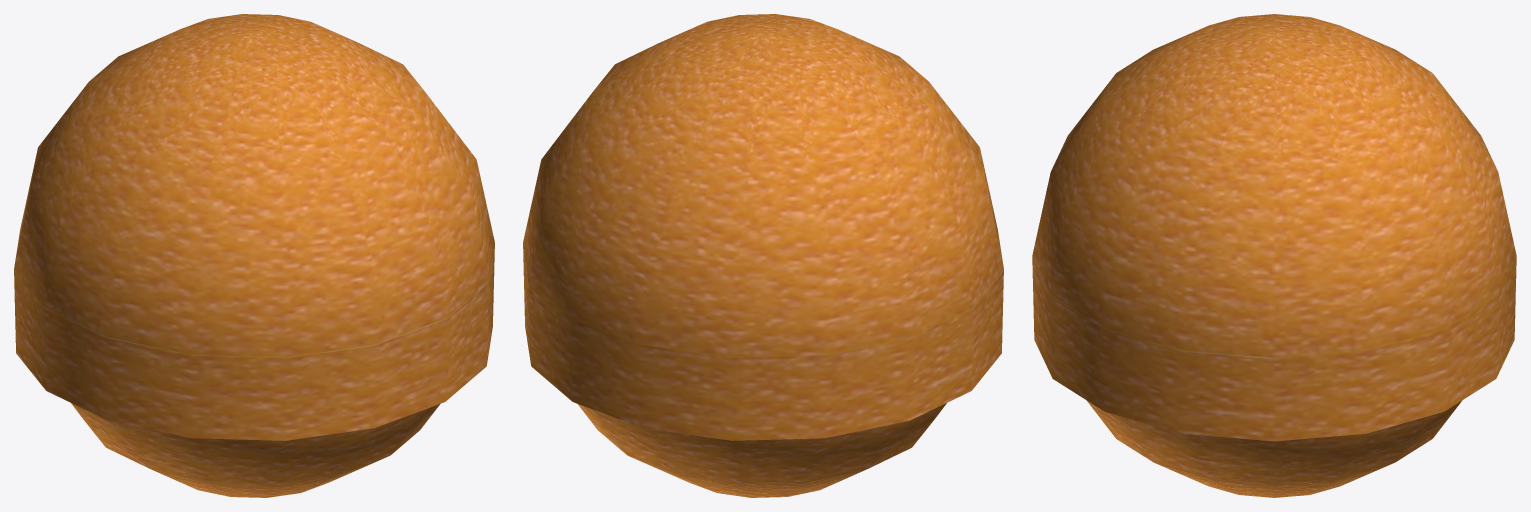
Rendered from Fbx_Fruit_Orange.fbx.
The picture shows the model from 3 angles, left to right: view 1: azimuth 30°, elevation 25°; view 2: azimuth 150°, elevation 25°; view 3: azimuth 270°, elevation 25°; orthographic projection.
Parts seen in each view (by area): view 1: Fruit Whole, Fruit Slice, Fruit Half, Fruit Wedge; view 2: Fruit Whole, Fruit Slice, Fruit Half, Fruit Wedge; view 3: Fruit Whole, Fruit Slice, Fruit Half.
Part boxes in pixels (box(x1,y1,x2,y2)): Fruit Whole: box(14, 14, 494, 357); Fruit Slice: box(14, 244, 494, 440); Fruit Half: box(71, 403, 439, 497); Fruit Wedge: box(103, 418, 354, 497); Fruit Whole: box(523, 14, 1003, 357); Fruit Slice: box(523, 244, 1003, 440); Fruit Half: box(578, 403, 945, 497); Fruit Wedge: box(664, 403, 946, 473); Fruit Whole: box(1032, 14, 1516, 358); Fruit Slice: box(1032, 256, 1516, 441); Fruit Half: box(1086, 400, 1462, 497).
Size of the model in its own units: 2 by 2 by 2.
Materials: 1 (1 with a texture image).
